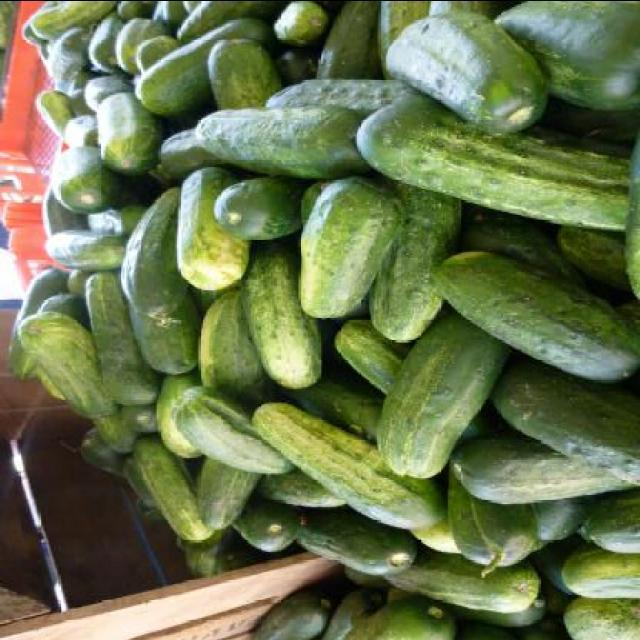Cucumber: (8, 0, 640, 640), (428, 249, 640, 385), (370, 305, 508, 481)
